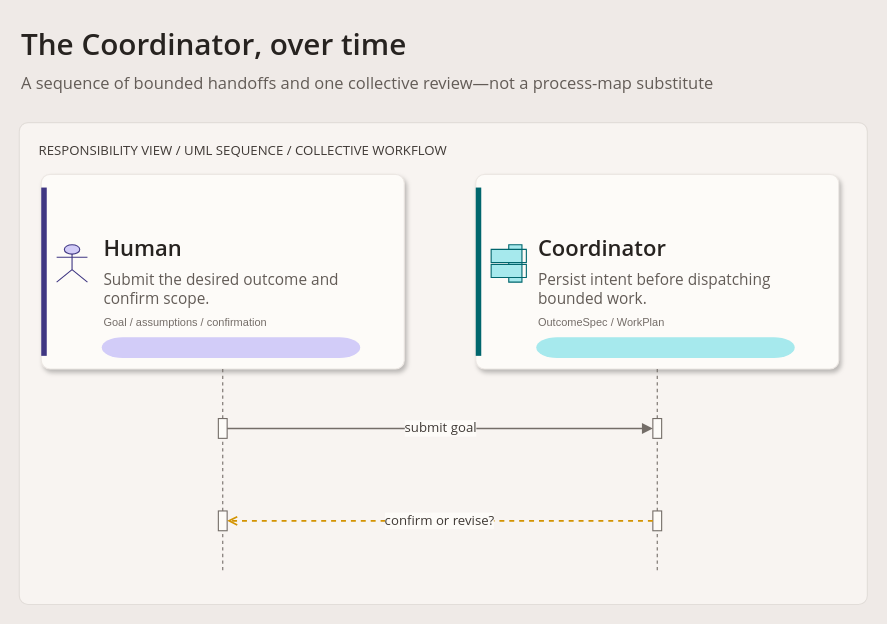
Image size: 887x624. Some labels were removed from this diagram. The centre of each missing label's shape, as x and y in pixels:
CONTROL: (x=665, y=347)
OWNER: (x=230, y=347)
